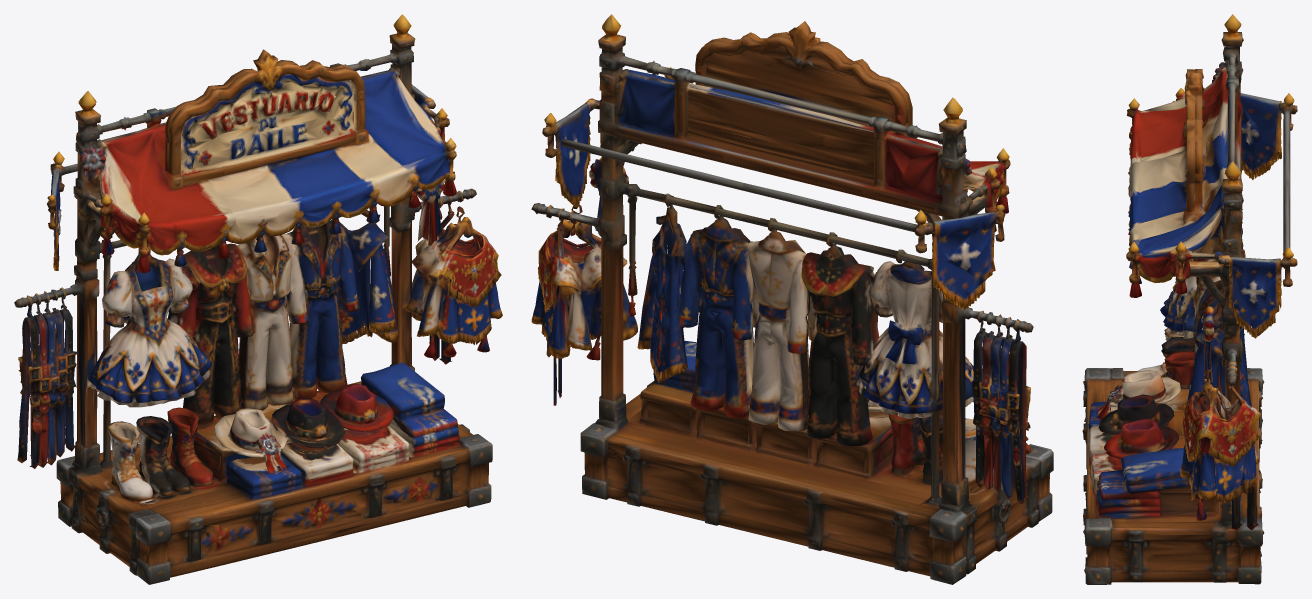
Rendered from vestuario_historico.glb.
The picture shows the model from 3 angles, left to right: view 1: azimuth 30°, elevation 25°; view 2: azimuth 150°, elevation 25°; view 3: azimuth 270°, elevation 25°; orthographic projection. The views are drawn at different scales.
Parts seen in each view (by area): view 1: vestuario_historico; view 2: vestuario_historico; view 3: vestuario_historico.
Part boxes in pixels (left/top/right/bottom): vestuario_historico: left=14, top=14, right=502, bottom=584; vestuario_historico: left=531, top=14, right=1053, bottom=584; vestuario_historico: left=1082, top=14, right=1297, bottom=584.
Size of what is drawn, in the model's own units: 2.52 by 2.3 by 1.03.
1 material, 1 textured.
